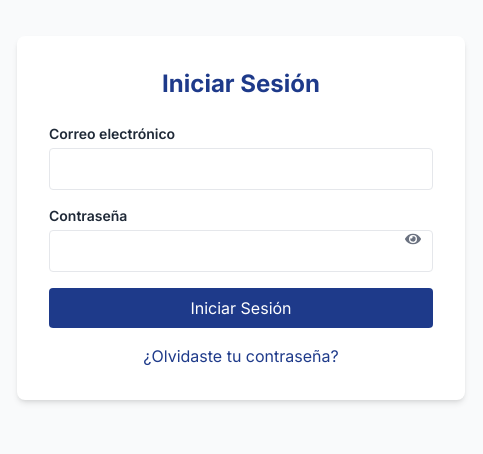
Login.jsx › 5) Si el backend responde error, muestra ErrorAlert con msg
This screenshot has width=483, height=454.
Type "admin@test.com" into the field at (241, 169), box [49, 148, 433, 190]
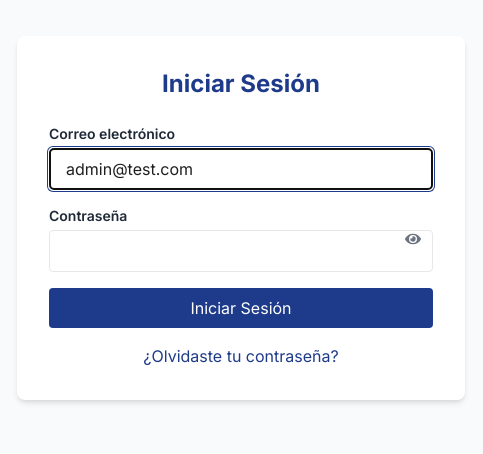
Type "mal" into the password field at (241, 251), box [49, 230, 433, 272]
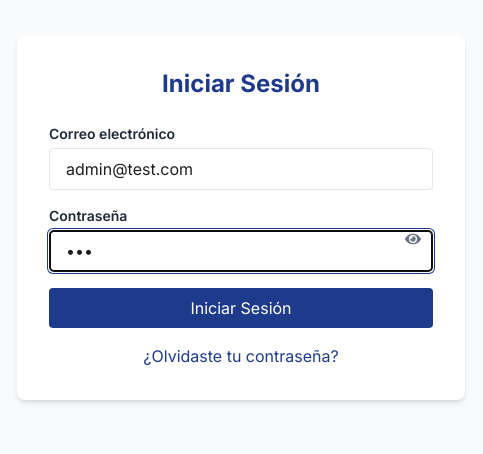
Click the button "Iniciar Sesión" at (241, 308), box [49, 288, 433, 328]
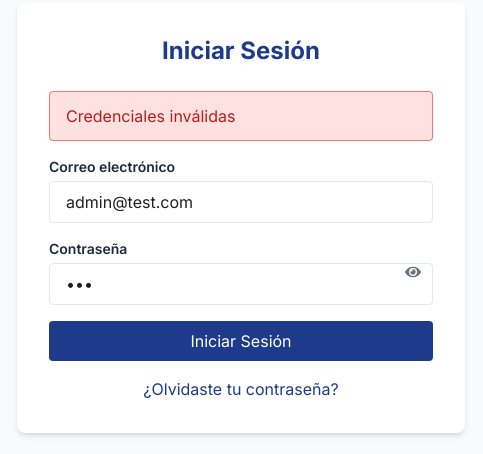
Check: the message reads "Credenciales inválidas", box [66, 106, 236, 126]
